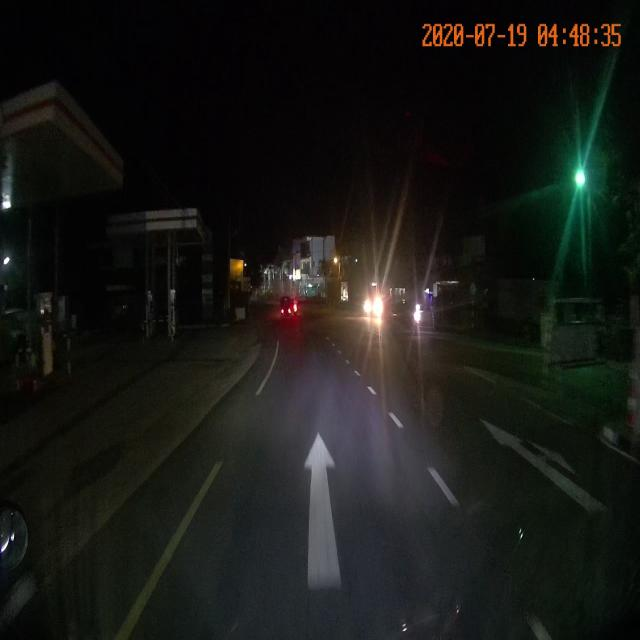Strelka vpered: (302, 430, 343, 591)
Strelka vpered - vpravo: (478, 417, 610, 518)
